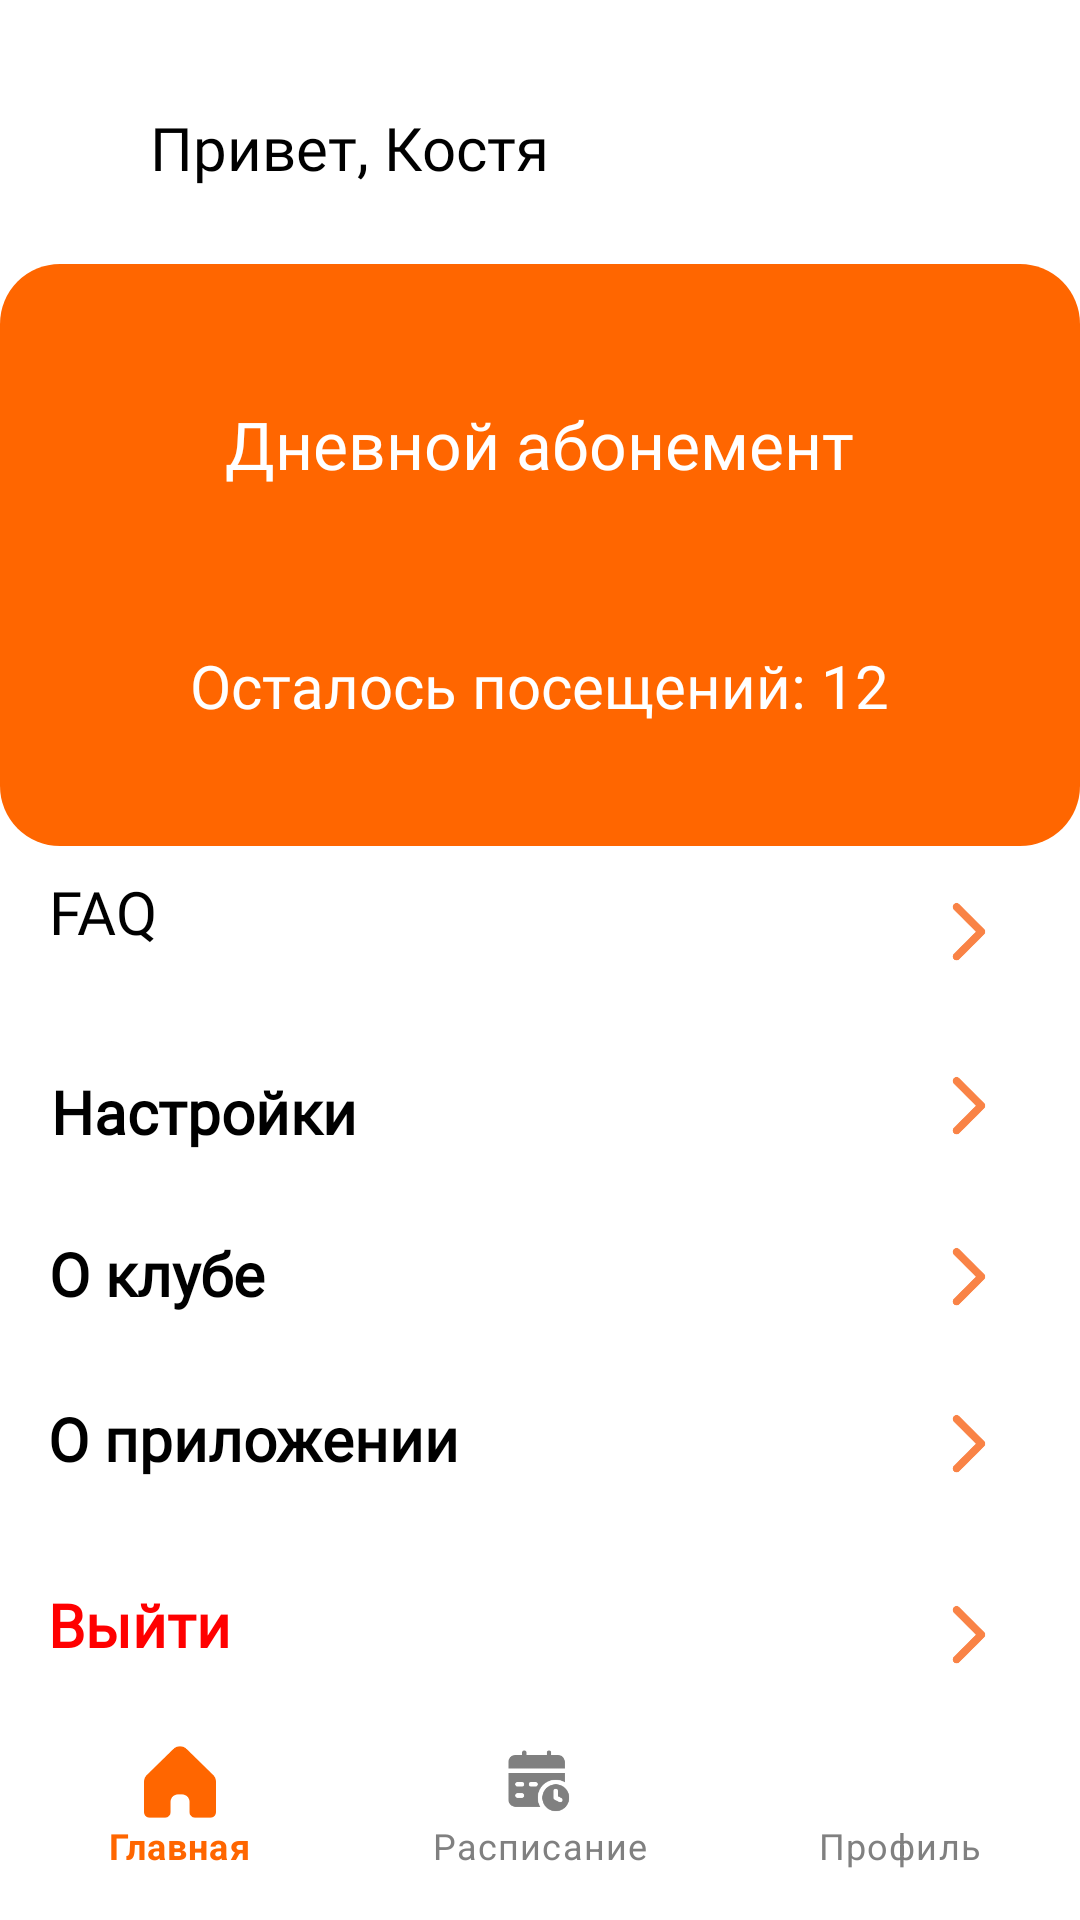

Where icons sit on this 1080px x 1920px app screen, as Rect(x1, y1, x2, y2):
arrowright: Rect(952, 903, 985, 961), Rect(952, 1077, 985, 1135), Rect(952, 1248, 985, 1306), Rect(952, 1415, 985, 1473), Rect(952, 1606, 985, 1664)
